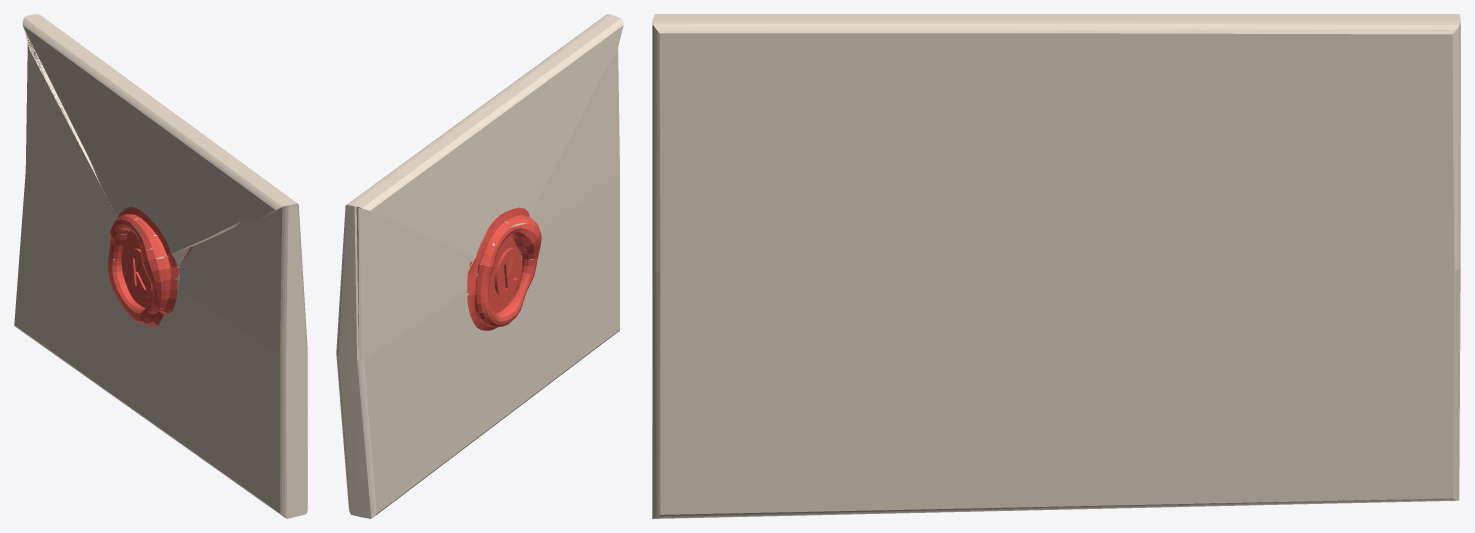
File: envelope_v01.fbx
The picture shows the model from 3 angles, left to right: view 1: azimuth 30°, elevation 25°; view 2: azimuth 150°, elevation 25°; view 3: azimuth 270°, elevation 25°; orthographic projection. The views are drawn at different scales.
Parts seen in each view (by area): view 1: Letter; view 2: Letter; view 3: Letter.
Boxes of the visible parts, x1,y1,x2,y2 form: Letter: (14, 14, 307, 518); Letter: (336, 14, 623, 518); Letter: (652, 14, 1460, 518).
Size of the model in its own units: 37.04 by 200 by 300.
Materials: 1 (1 with a texture image).
